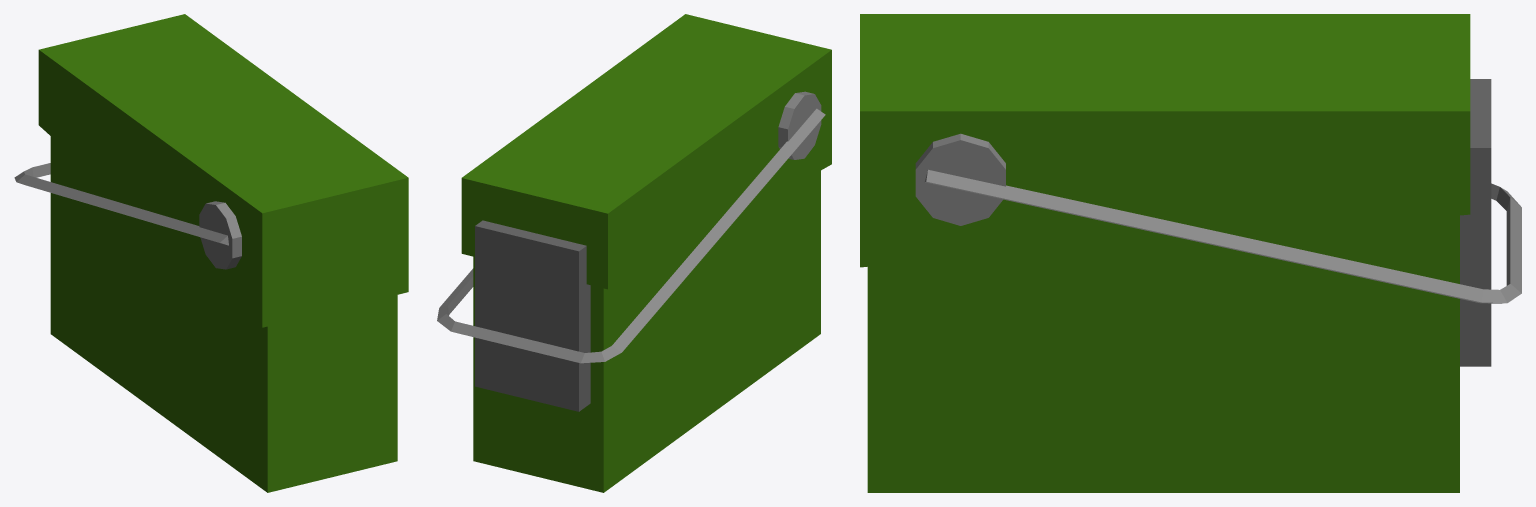
File: AmmoPack.fbx
3 renders of one model, left to right at view 1: azimuth 30°, elevation 25°; view 2: azimuth 150°, elevation 25°; view 3: azimuth 270°, elevation 25°, orthographic. The views are drawn at different scales.
Visible parts, largest first — view 1: AmmoPack; view 2: AmmoPack; view 3: AmmoPack.
Part boxes in pixels (x1,y1,x2,y2): AmmoPack: (14,14,408,492); AmmoPack: (437,14,831,492); AmmoPack: (860,14,1521,492).
Bounding box in the file's own units: 12.63 × 18.75 × 29.06.
Materials: 1 (1 with a texture image).
